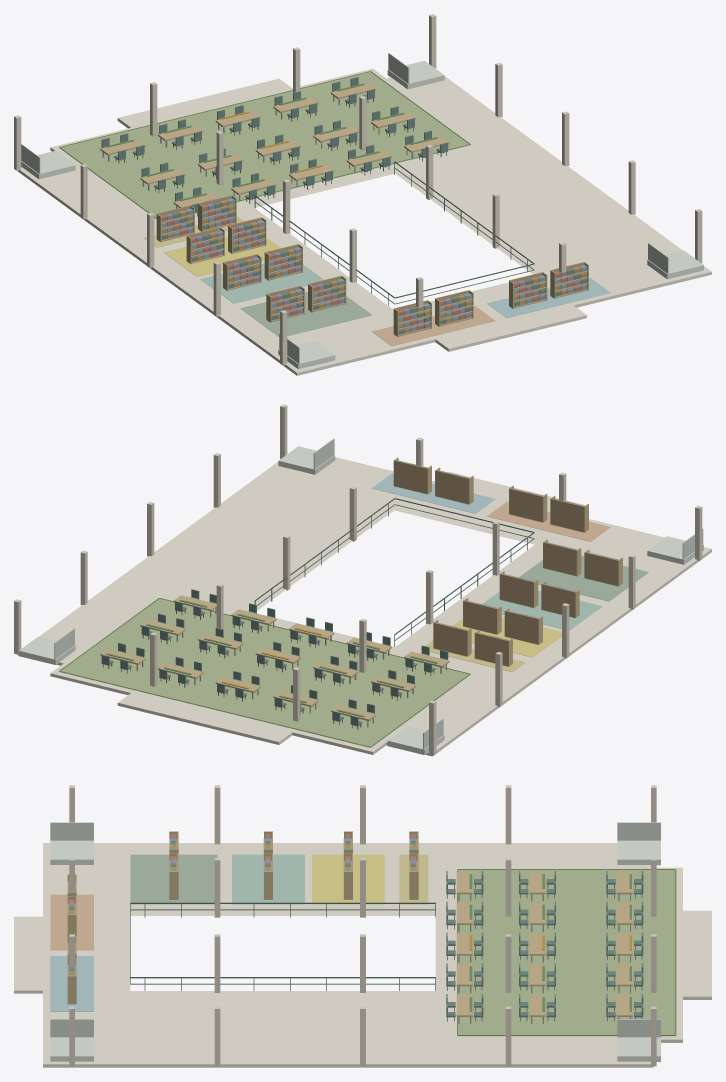
File: 图书馆_5楼_试点启用.glb
3 renders of one model, top to bottom at view 1: azimuth 30°, elevation 25°; view 2: azimuth 150°, elevation 25°; view 3: azimuth 270°, elevation 25°, orthographic. The views are drawn at different scales.
Visible parts, largest first — view 1: guide_outline_floor_slab, guide_function_tint (×6), proposed_candidate_zone, corner_service_room (×4); view 2: guide_outline_floor_slab, guide_function_tint (×6), proposed_candidate_zone, rack_back (×12), corner_service_room (×4); view 3: guide_outline_floor_slab, guide_function_tint (×7), proposed_candidate_zone, corner_service_room (×4), service_partition (×4), atrium_rail_top (×2), atrium_rail_lower (×2).
Boxes of the visible parts, bbox=[...] form: guide_outline_floor_slab: bbox=[17, 68, 711, 375]; guide_function_tint (×6): bbox=[61, 72, 610, 346]; proposed_candidate_zone: bbox=[61, 72, 468, 216]; corner_service_room (×4): bbox=[21, 60, 703, 369]; guide_outline_floor_slab: bbox=[18, 457, 711, 756]; guide_function_tint (×6): bbox=[60, 473, 648, 747]; proposed_candidate_zone: bbox=[61, 599, 468, 746]; rack_back (×12): bbox=[394, 460, 618, 666]; corner_service_room (×4): bbox=[19, 446, 703, 754]; guide_outline_floor_slab: bbox=[14, 843, 711, 1067]; guide_function_tint (×7): bbox=[50, 854, 674, 1036]; proposed_candidate_zone: bbox=[458, 870, 674, 1034]; corner_service_room (×4): bbox=[50, 840, 660, 1061]; service_partition (×4): bbox=[50, 822, 660, 1037]; atrium_rail_top (×2): bbox=[130, 902, 435, 978]; atrium_rail_lower (×2): bbox=[130, 909, 435, 984].
Bounding box in the file's own units: 36.4 × 4.52 × 48.
